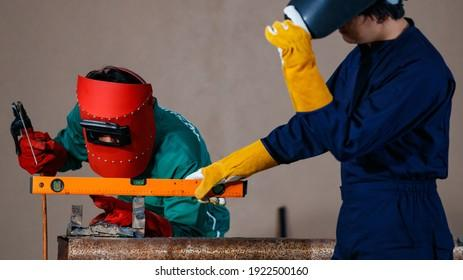gloves: (264, 5, 333, 114), (184, 138, 278, 207), (89, 194, 173, 238), (15, 130, 66, 175)
